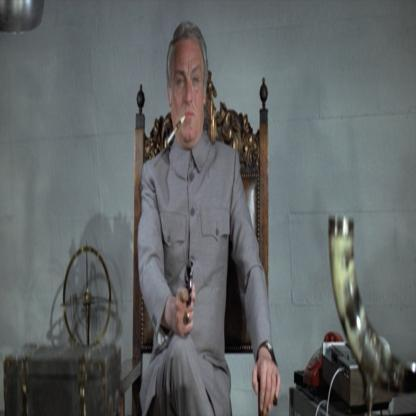gun: (178, 247, 197, 313)
